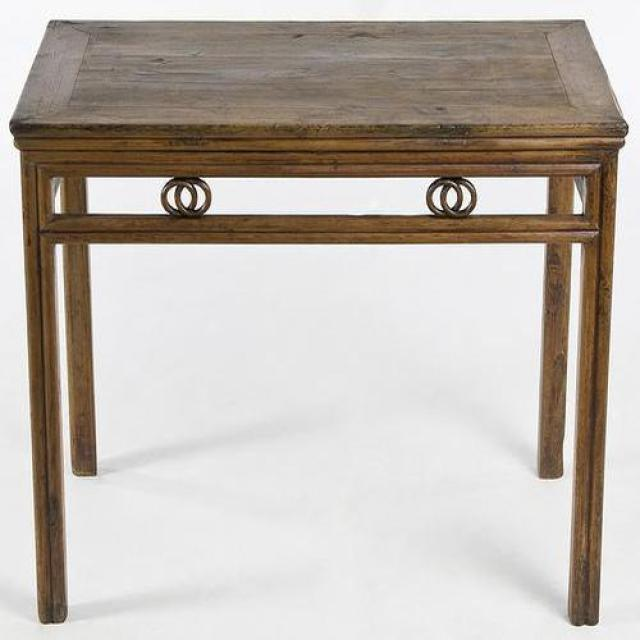table: (9, 20, 628, 628)
